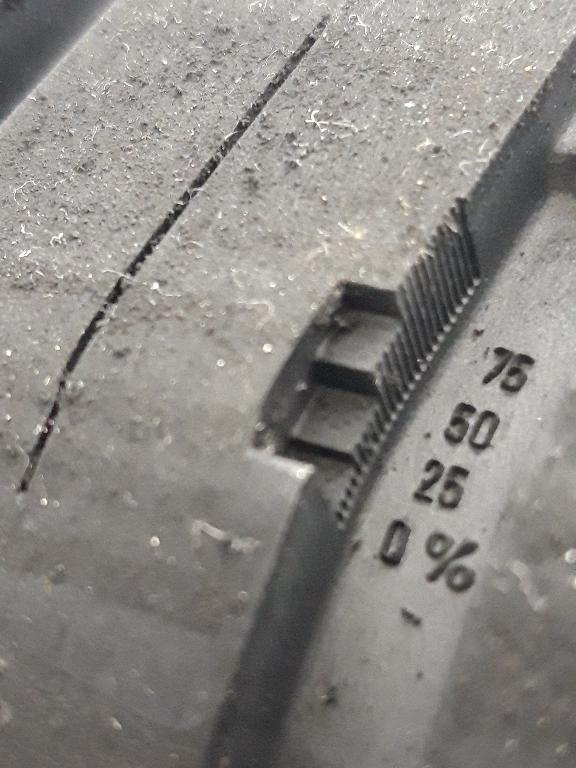temoin:75: (230, 227, 473, 552)
